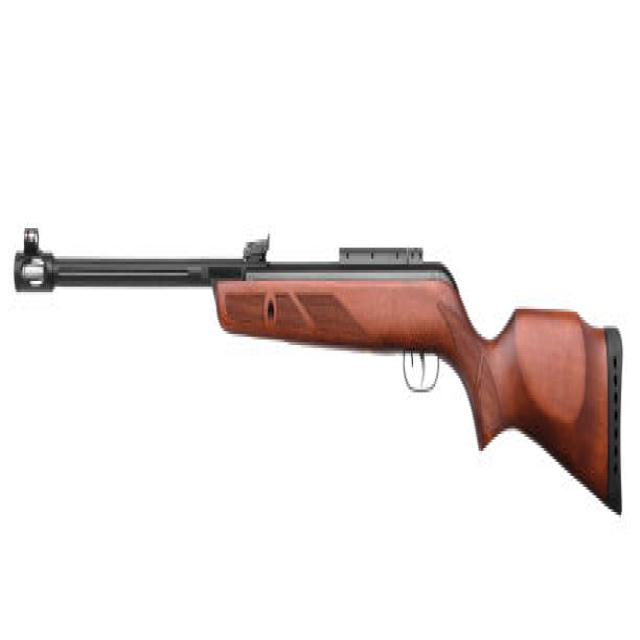rifle: (14, 204, 630, 533)
